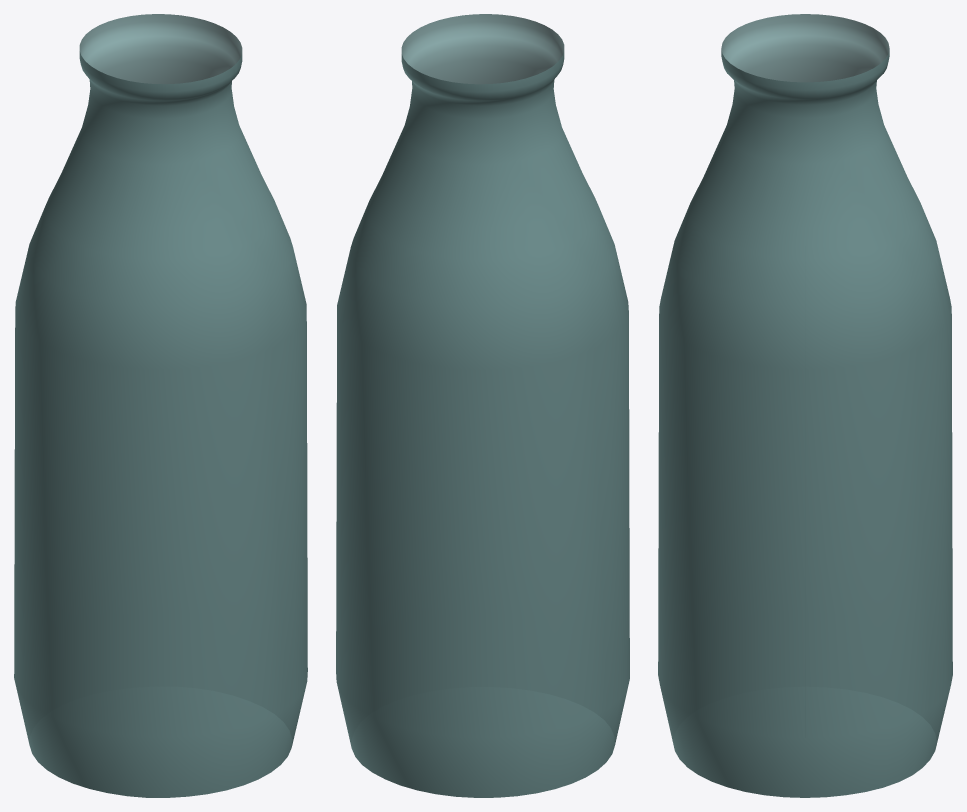
Rendered from oneglass.fbx.
3 views of the same model, side by side, from view 1: azimuth 30°, elevation 25°; view 2: azimuth 150°, elevation 25°; view 3: azimuth 270°, elevation 25° (orthographic).
Visible parts, largest first — view 1: Bottle5; view 2: Bottle5; view 3: Bottle5.
Part boxes in pixels (left/top/right/bottom): Bottle5: left=14, top=14, right=307, bottom=797; Bottle5: left=336, top=14, right=629, bottom=797; Bottle5: left=658, top=14, right=952, bottom=797.
Size of the model in its own units: 7.34 by 19.08 by 7.34.
